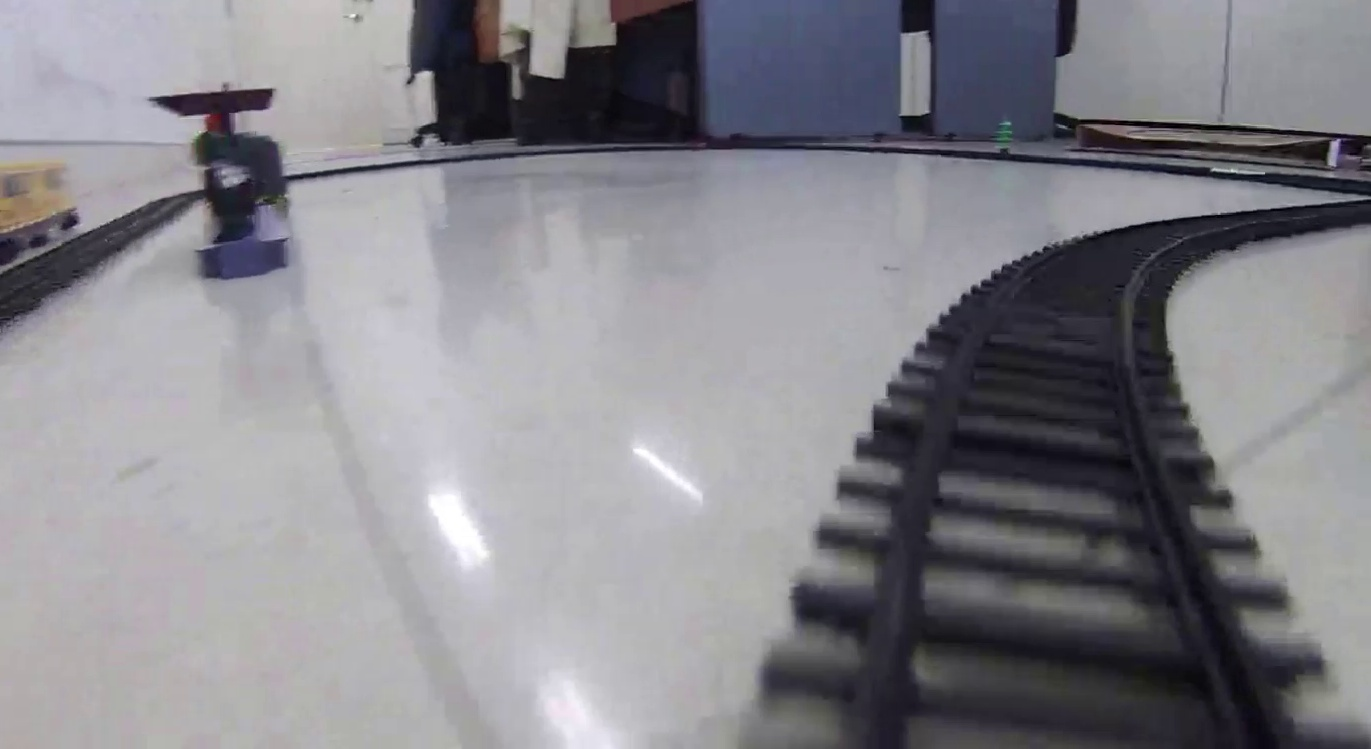people: (194, 133, 262, 243)
